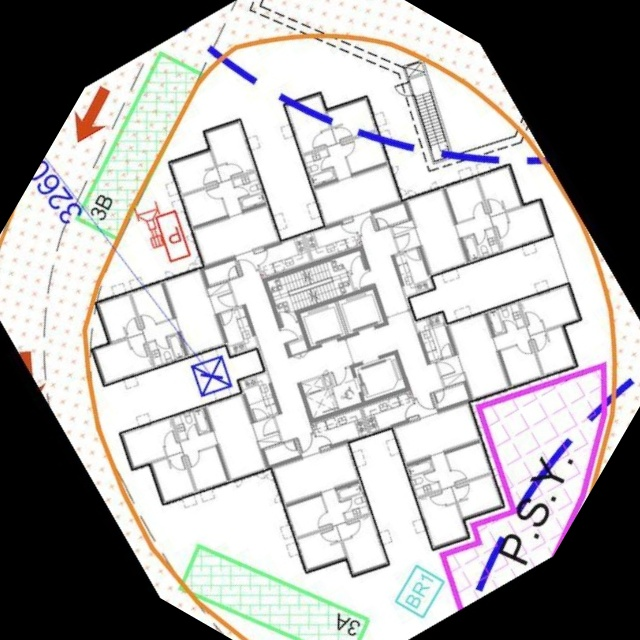tower_crane: (190, 356, 234, 400)
